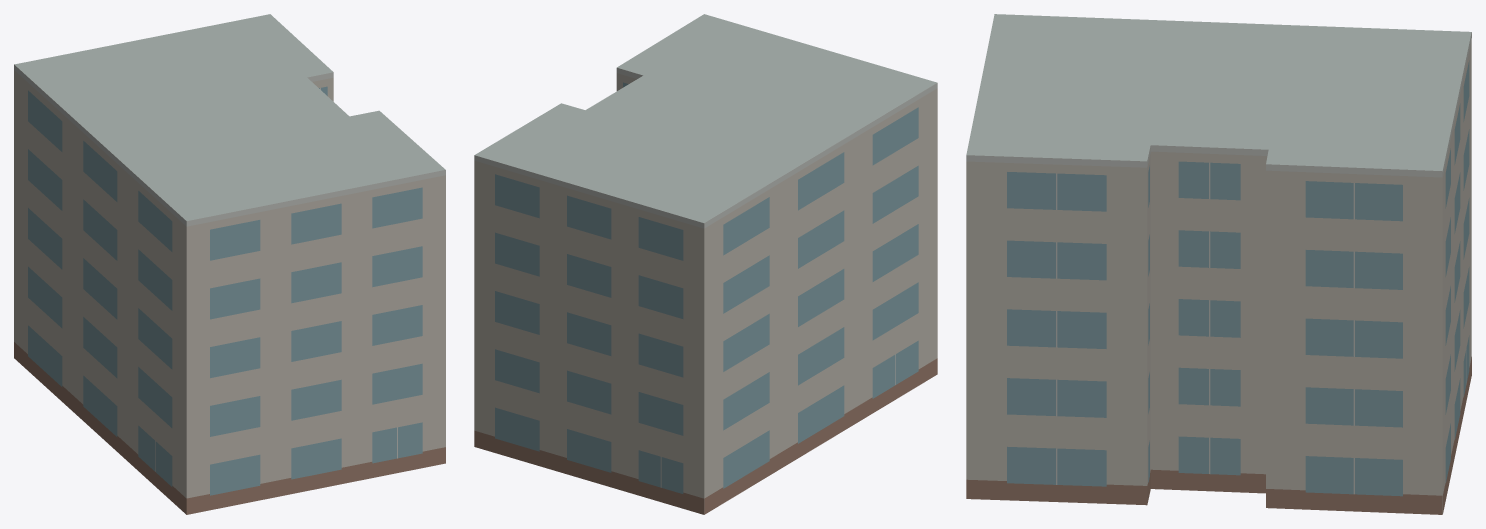
Rendered from survey-upis-32601239.glb.
The picture shows the model from 3 angles, left to right: view 1: azimuth 30°, elevation 25°; view 2: azimuth 150°, elevation 25°; view 3: azimuth 270°, elevation 25°; orthographic projection. The views are drawn at different scales.
Visible parts, largest first — view 1: survey-upis-32601239.tmp; view 2: survey-upis-32601239.tmp; view 3: survey-upis-32601239.tmp.
Boxes of the visible parts, x1,y1,x2,y2 form: survey-upis-32601239.tmp: [14, 14, 445, 514]; survey-upis-32601239.tmp: [474, 14, 937, 514]; survey-upis-32601239.tmp: [966, 14, 1471, 514].
Size of the model in its own units: 12.95 by 13.2 by 17.6.
